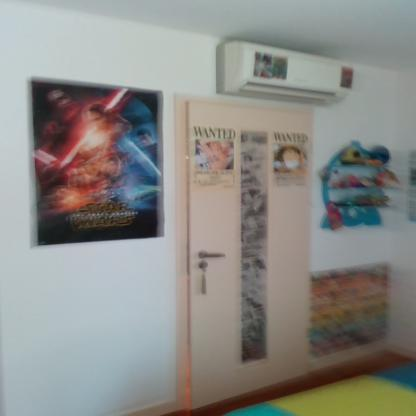door: (190, 100, 310, 406)
lever: (200, 251, 231, 261)
